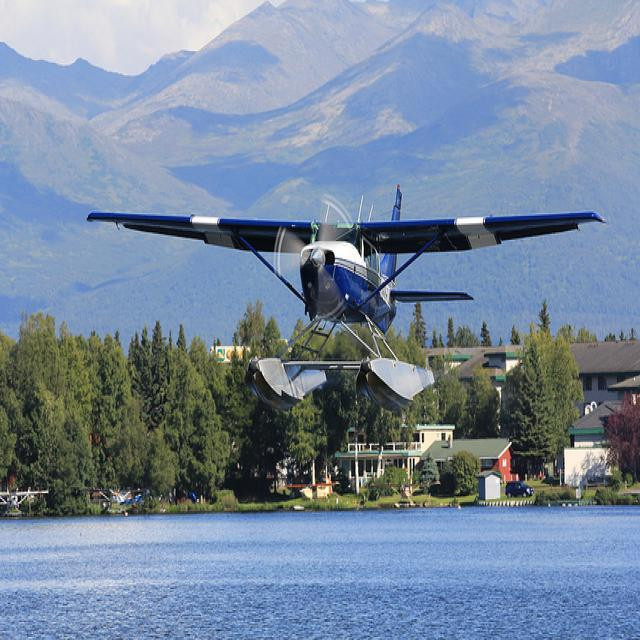Vehicle: (577, 473, 613, 496), (505, 480, 534, 498)
